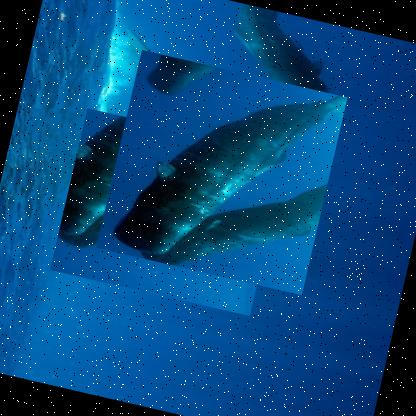sperm_whale: (97, 50, 348, 296), (50, 107, 288, 316), (204, 0, 386, 152)
